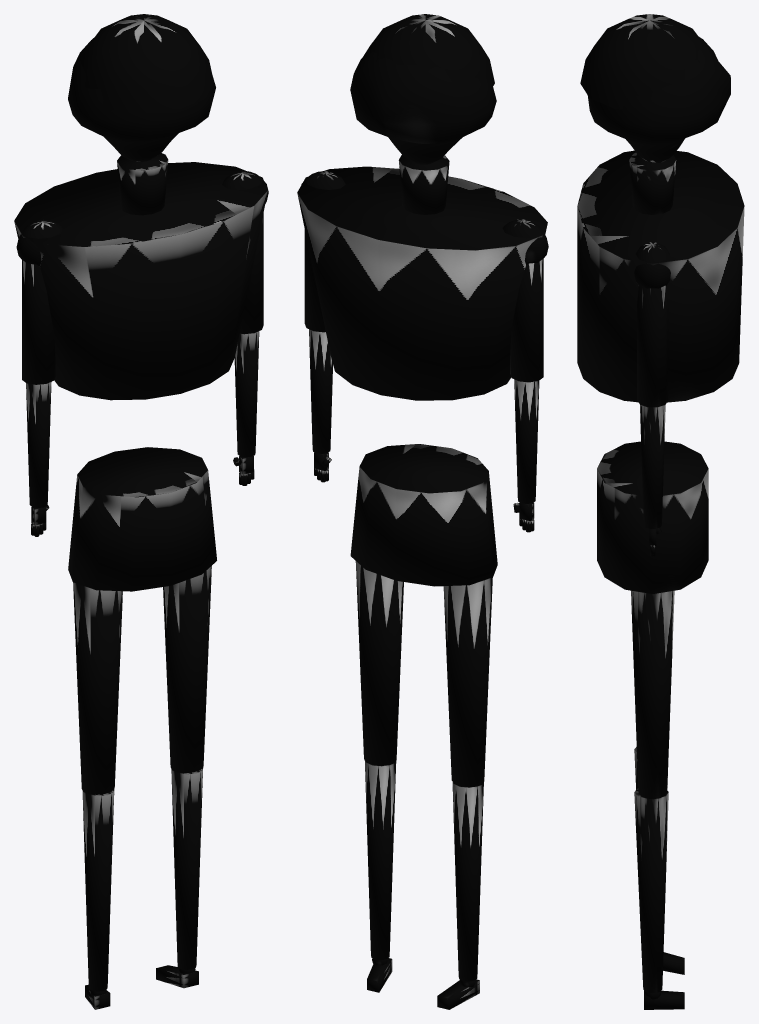
The model's file is survivor_male_1.glb.
3 views of the same model, side by side, from view 1: azimuth 30°, elevation 25°; view 2: azimuth 150°, elevation 25°; view 3: azimuth 270°, elevation 25° (orthographic).
Visible parts, largest first — view 1: survivor_male_1; view 2: survivor_male_1; view 3: survivor_male_1.
Part boxes in pixels (x1,y1,x2,y2): survivor_male_1: (14,14,268,1009); survivor_male_1: (297,14,548,1009); survivor_male_1: (577,14,744,1009).
Bounding box in the file's own units: 0.4643 × 1.77 × 0.2766.
1 material, 1 textured.
